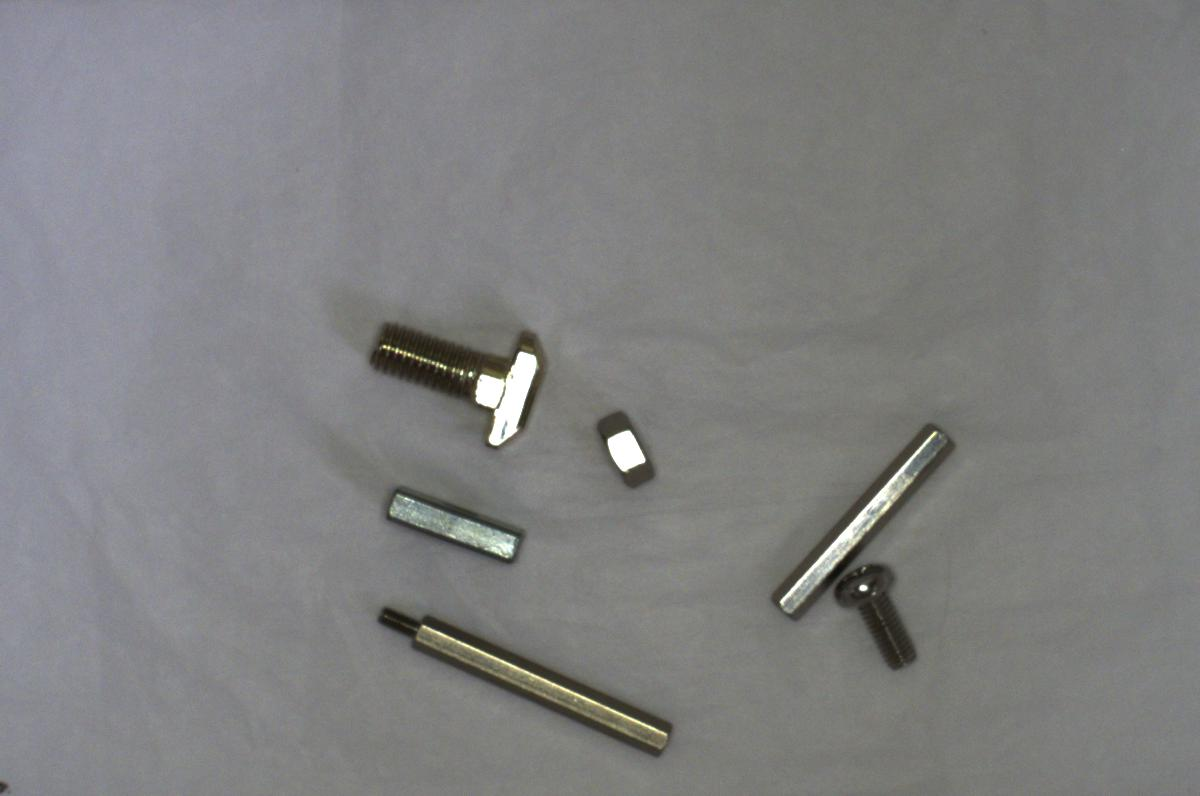Double hexagonal column: (771, 416, 953, 619)
Hexagon nut: (598, 401, 655, 490)
Hexagonal steel column: (375, 598, 677, 763)
Rectangular nut: (380, 483, 526, 562)
Round head screw: (837, 560, 926, 675)
T-shaped screw: (354, 299, 548, 443)
